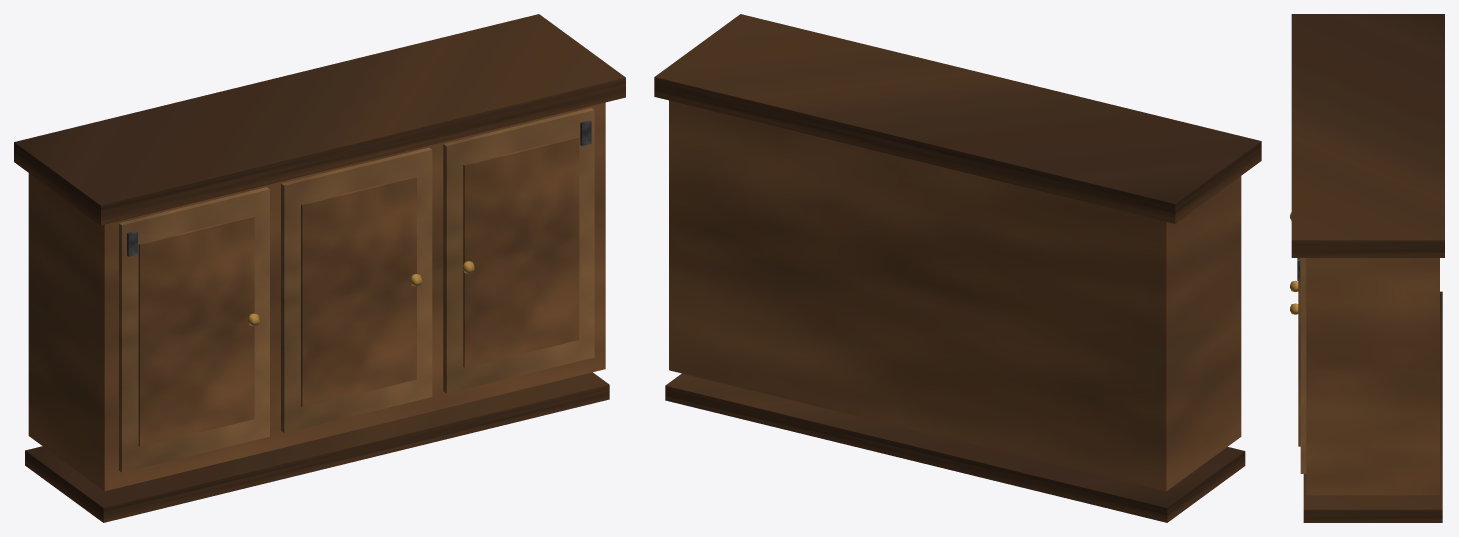
Rendered from cupboard.obj.
3 renders of one model, left to right at view 1: azimuth 30°, elevation 25°; view 2: azimuth 150°, elevation 25°; view 3: azimuth 270°, elevation 25°, orthographic. The views are drawn at different scales.
Size of the model in its own units: 22 by 13 by 6.37.
1 material, 1 textured.
